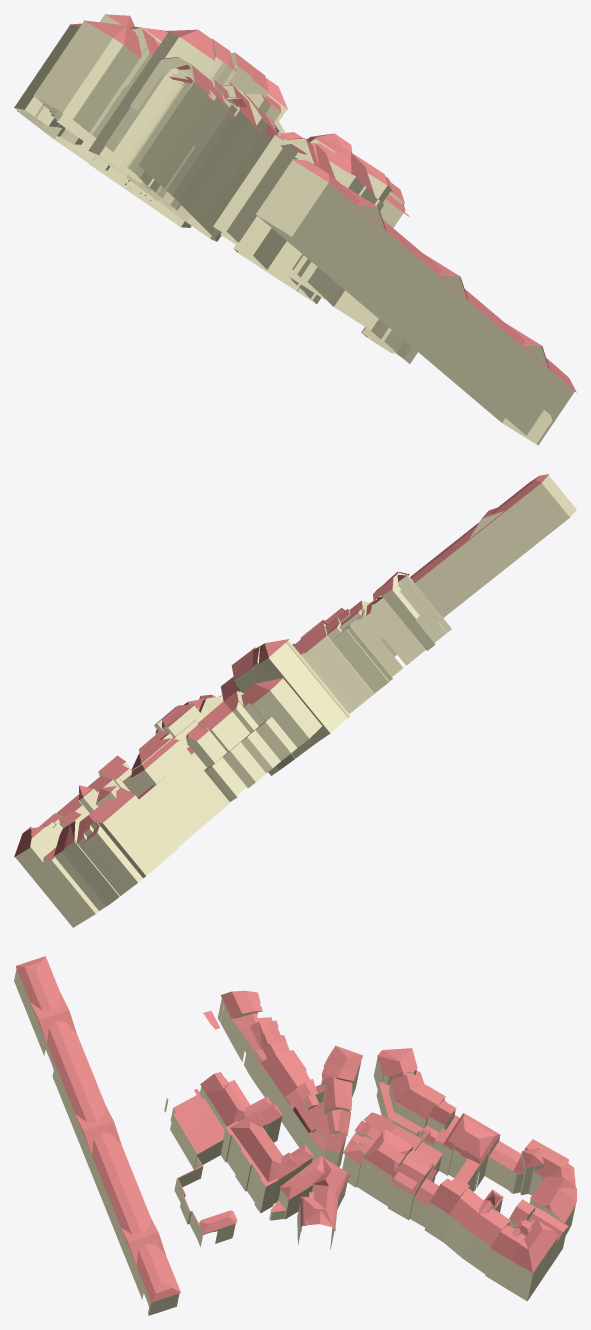
The model's file is tile_053.glb.
The picture shows the model from 3 angles, top to bottom: view 1: azimuth 30°, elevation 25°; view 2: azimuth 150°, elevation 25°; view 3: azimuth 270°, elevation 25°; orthographic projection. The views are drawn at different scales.
Visible parts, largest first — view 1: Batched_Building_ID_0B53339B-1816-42D7-A235-0D645FC7D92F; view 2: Batched_Building_ID_0B53339B-1816-42D7-A235-0D645FC7D92F; view 3: Batched_Building_ID_0B53339B-1816-42D7-A235-0D645FC7D92F.
Part boxes in pixels (box(x1,y1,x2,y2)): Batched_Building_ID_0B53339B-1816-42D7-A235-0D645FC7D92F: box(14, 14, 576, 445); Batched_Building_ID_0B53339B-1816-42D7-A235-0D645FC7D92F: box(14, 474, 576, 927); Batched_Building_ID_0B53339B-1816-42D7-A235-0D645FC7D92F: box(14, 956, 576, 1315).
Bounding box in the file's own units: 134 × 134 × 261.
